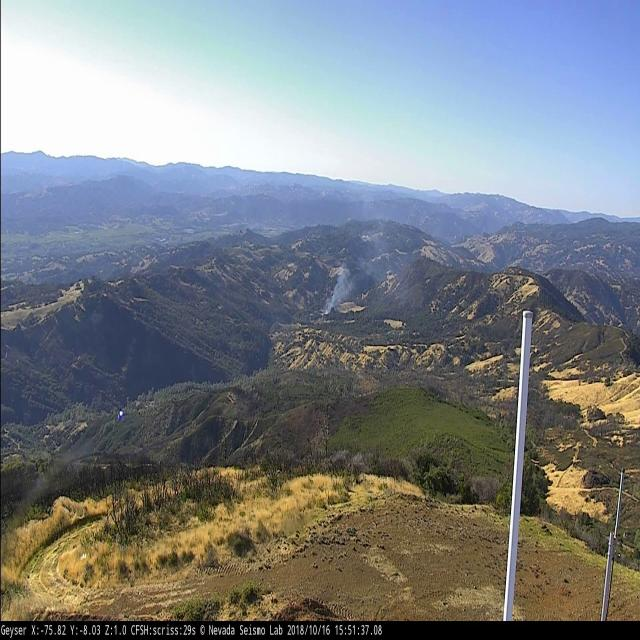smoke: (320, 238, 387, 320)
